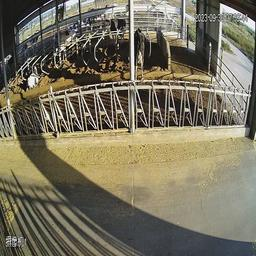cow: (13, 55, 42, 95), (101, 13, 126, 53), (134, 25, 150, 82), (57, 27, 79, 56)
